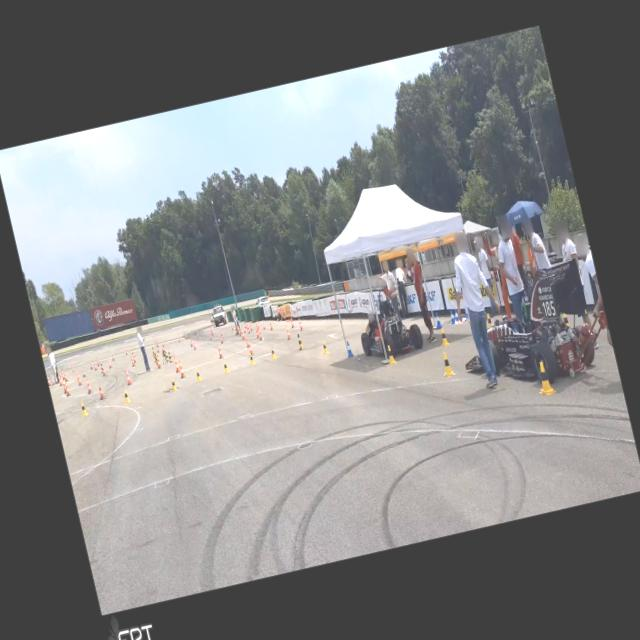blue_cone: (433, 312, 443, 328), (344, 341, 353, 356), (452, 306, 460, 322), (448, 309, 456, 324)
large_orange_cone: (94, 380, 106, 400), (176, 359, 186, 378), (245, 338, 255, 356), (84, 378, 93, 394), (123, 368, 132, 384), (63, 380, 71, 396), (172, 356, 180, 372), (284, 324, 292, 340), (215, 344, 224, 358), (154, 354, 161, 368), (56, 373, 63, 386), (253, 325, 260, 338), (243, 335, 250, 348), (297, 316, 303, 330), (61, 380, 67, 394), (76, 372, 82, 386), (288, 316, 295, 328), (91, 358, 97, 371), (257, 328, 263, 341), (100, 364, 106, 376), (94, 354, 100, 366), (129, 354, 135, 366), (80, 366, 86, 377), (240, 329, 246, 340), (62, 371, 68, 382), (58, 369, 63, 382), (106, 358, 112, 368), (218, 334, 224, 344), (236, 326, 242, 336), (46, 374, 51, 386), (60, 368, 65, 379), (255, 319, 260, 330), (188, 338, 194, 347), (268, 320, 273, 330), (261, 320, 266, 330), (246, 324, 251, 334), (132, 350, 136, 362), (70, 363, 75, 372), (89, 360, 93, 370), (192, 340, 196, 350), (248, 322, 252, 332), (208, 332, 212, 341), (110, 352, 114, 360), (124, 347, 128, 355), (210, 328, 214, 336), (219, 328, 223, 336), (242, 324, 246, 332), (195, 331, 199, 338), (177, 334, 180, 342), (184, 332, 187, 339)
unknown_cone: (294, 329, 305, 350), (166, 350, 174, 362), (163, 348, 169, 362), (154, 352, 158, 364), (162, 348, 166, 358)
yellow_cone: (532, 359, 556, 396), (438, 351, 455, 376), (384, 344, 397, 364), (438, 326, 450, 346), (78, 400, 88, 416), (168, 376, 178, 391), (320, 339, 329, 354), (484, 312, 492, 327), (122, 388, 130, 403), (194, 367, 202, 382), (222, 359, 230, 374), (247, 352, 255, 365), (562, 312, 569, 326), (269, 346, 276, 358)
